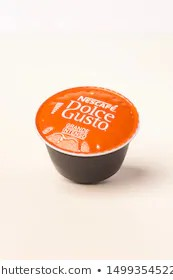nescafe-dolce: (35, 86, 143, 187)
